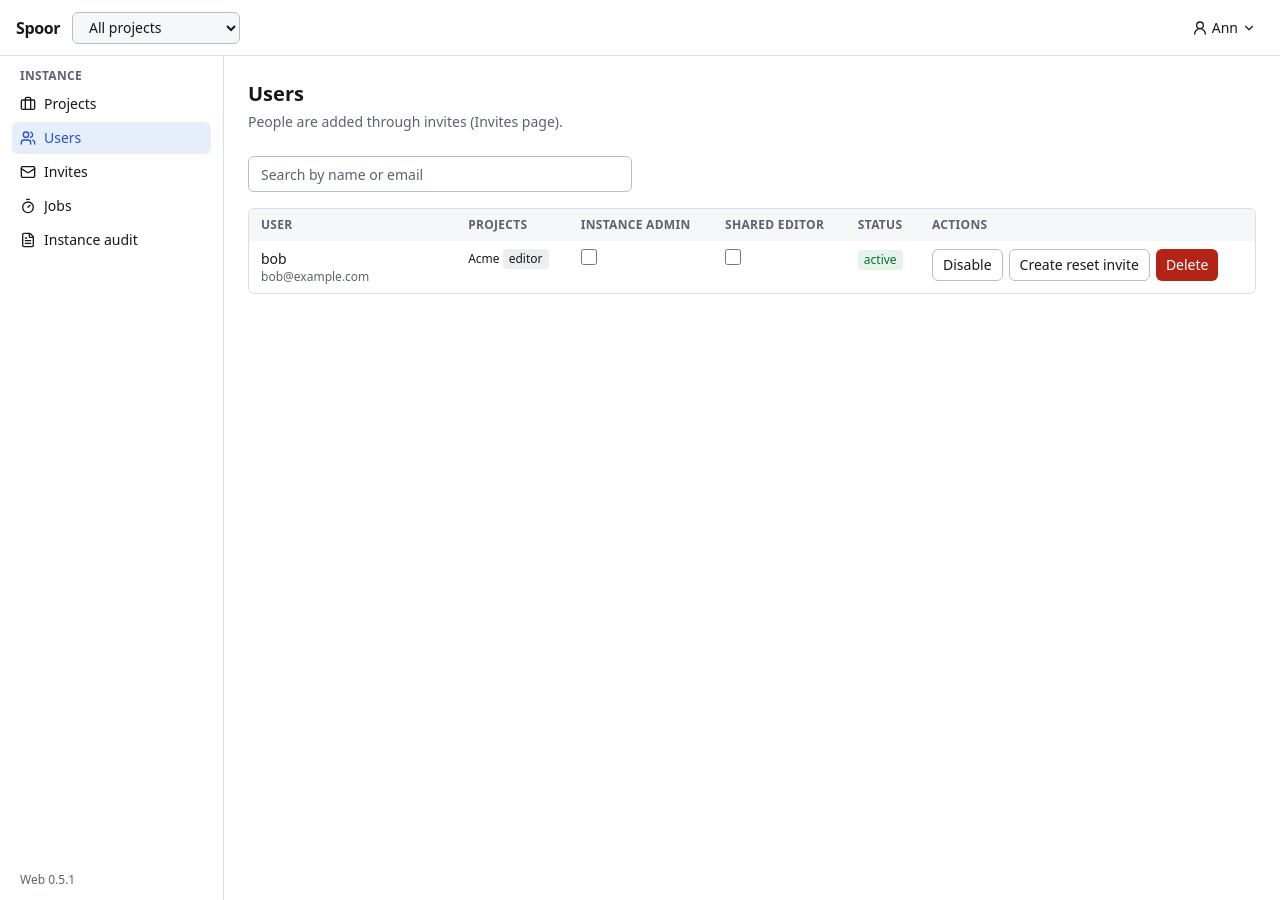
Test: AdminUsersPage › creates a reset invite for a user and shows the link once
The width and height of the screenshot is (1280, 900).
Click the button "Create reset invite" at (1079, 265), box [1008,249,1150,281]
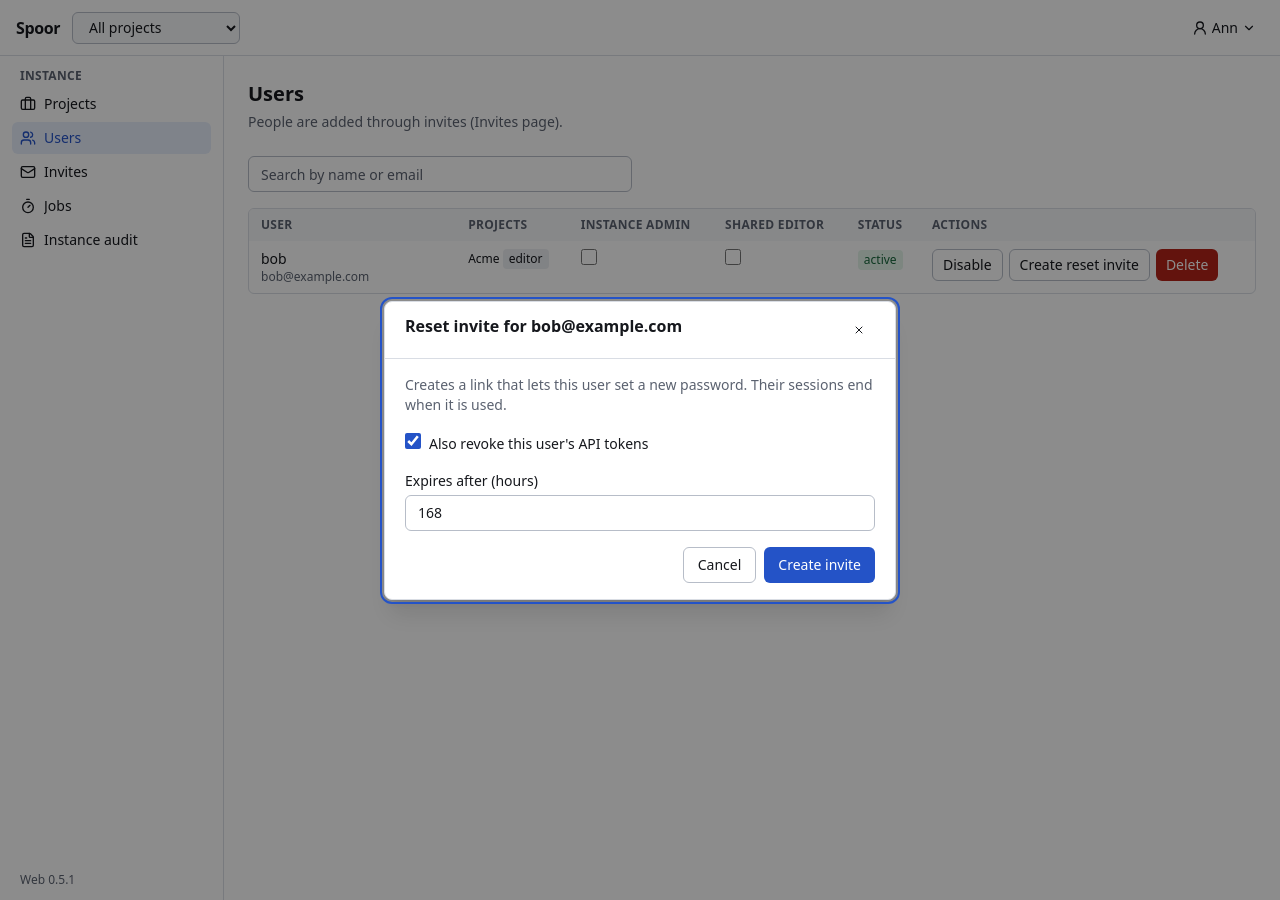
Check: the checkbox labelled "Also revoke this user's API tokens" is checked, box [405,432,421,448]
Click the button "Create invite" at (820, 564), box [764,546,875,582]
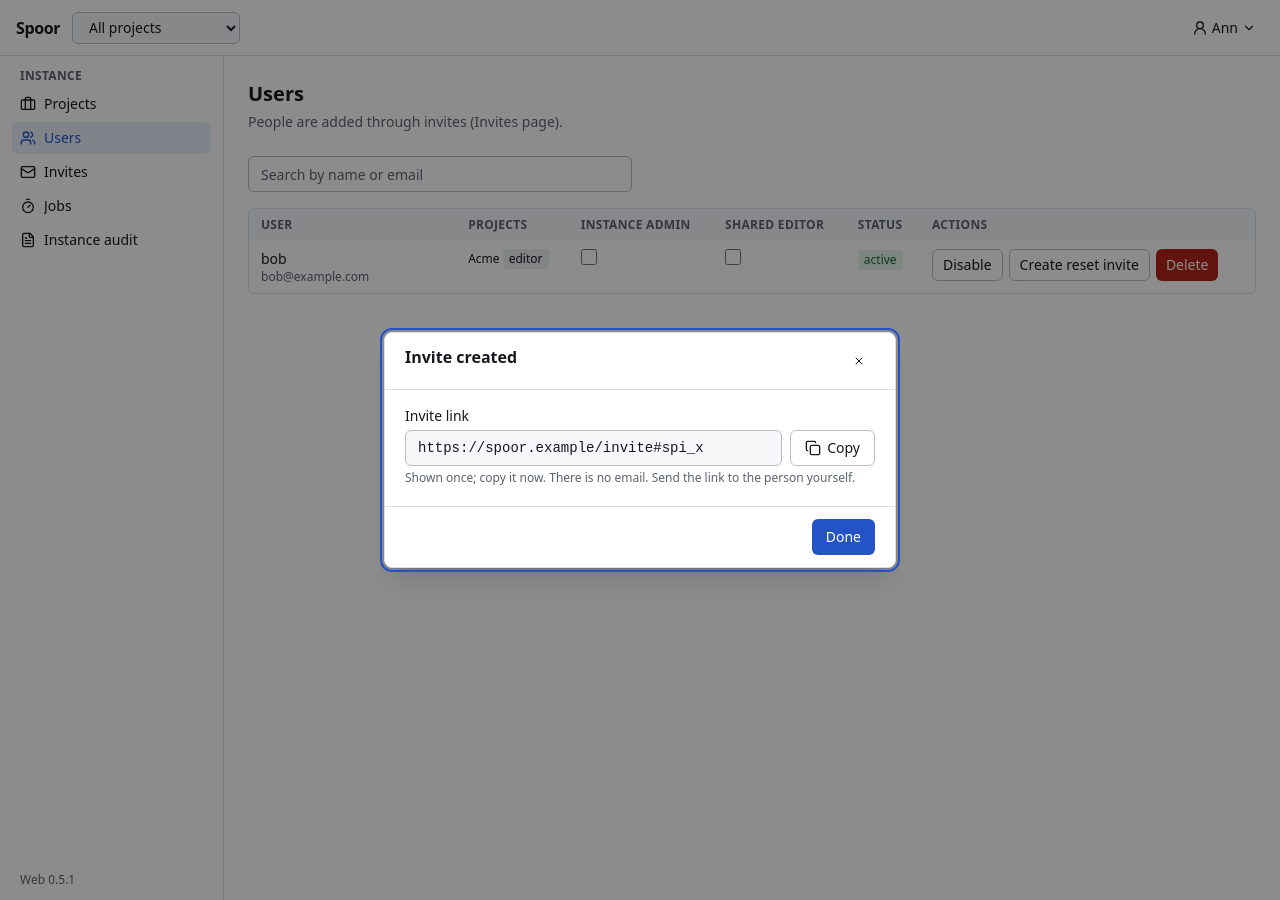
Check: the field labelled "Invite link" holds "https://spoor.example/invite#spi_x", box [405,430,782,466]
